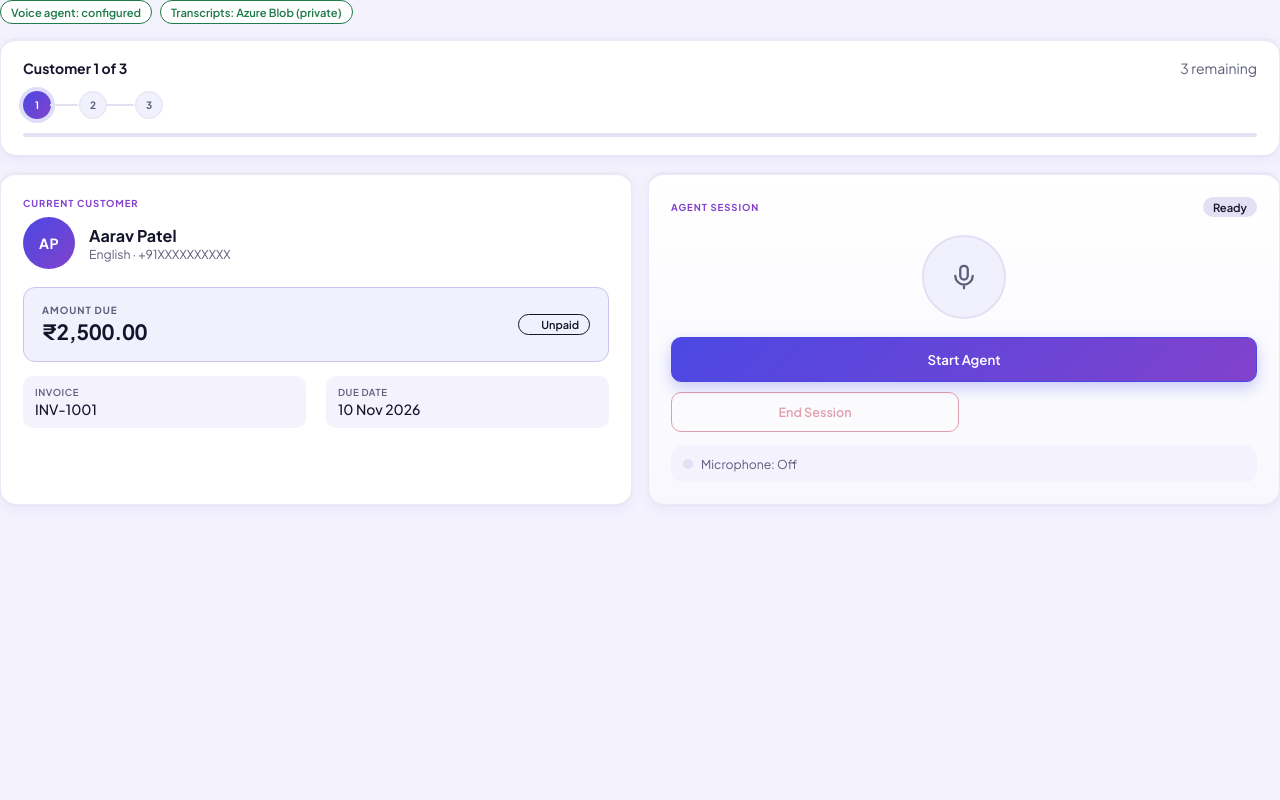
it: Dashboard › reports a voice connection failure but keeps the session usable
Click the button "Start Agent" at (964, 360), box [671,337,1257,382]
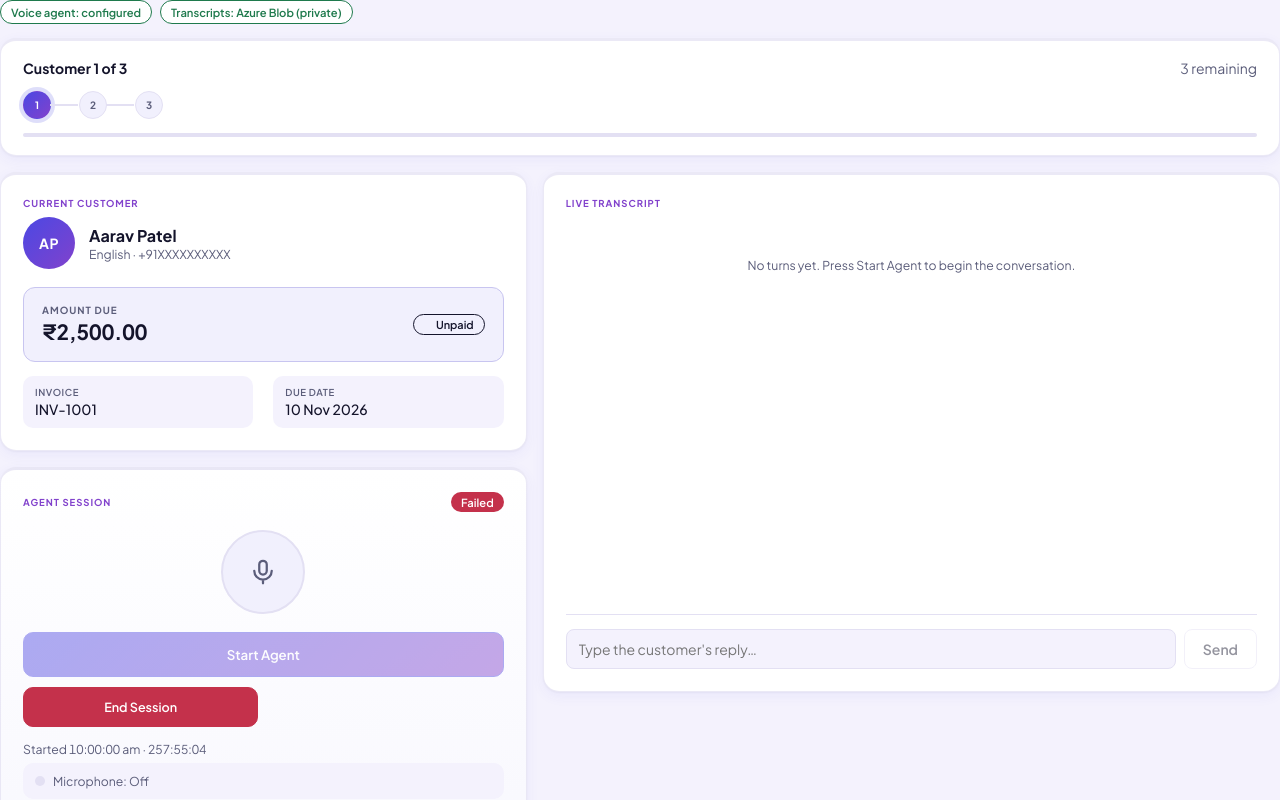
Expected: the button "End Session" is enabled, [23,687,258,727]
Expected: the field named "Customer reply" is enabled, [566,629,1176,669]
